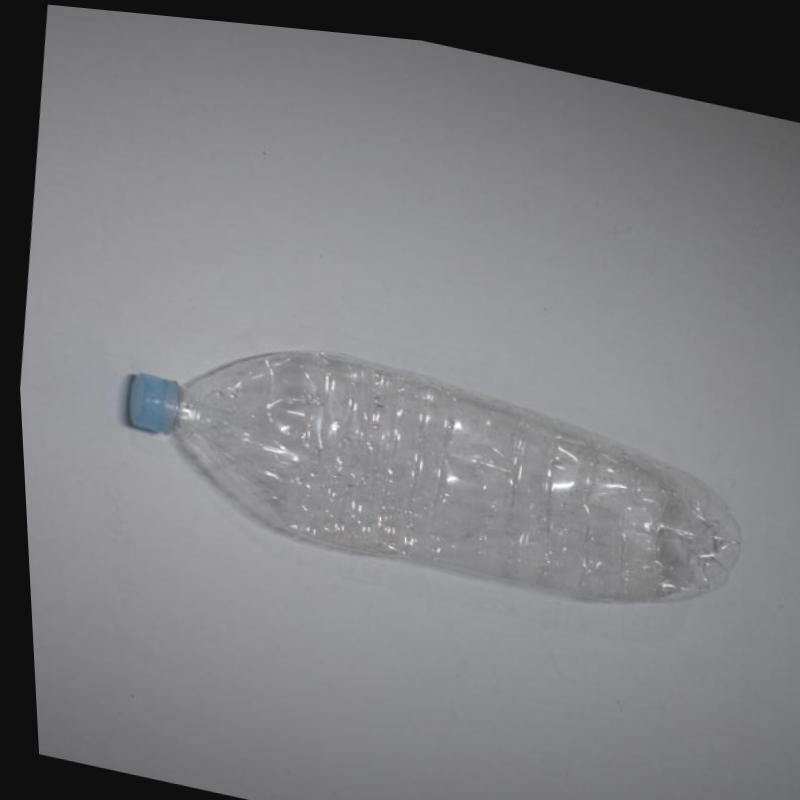botella: (107, 305, 753, 621)
